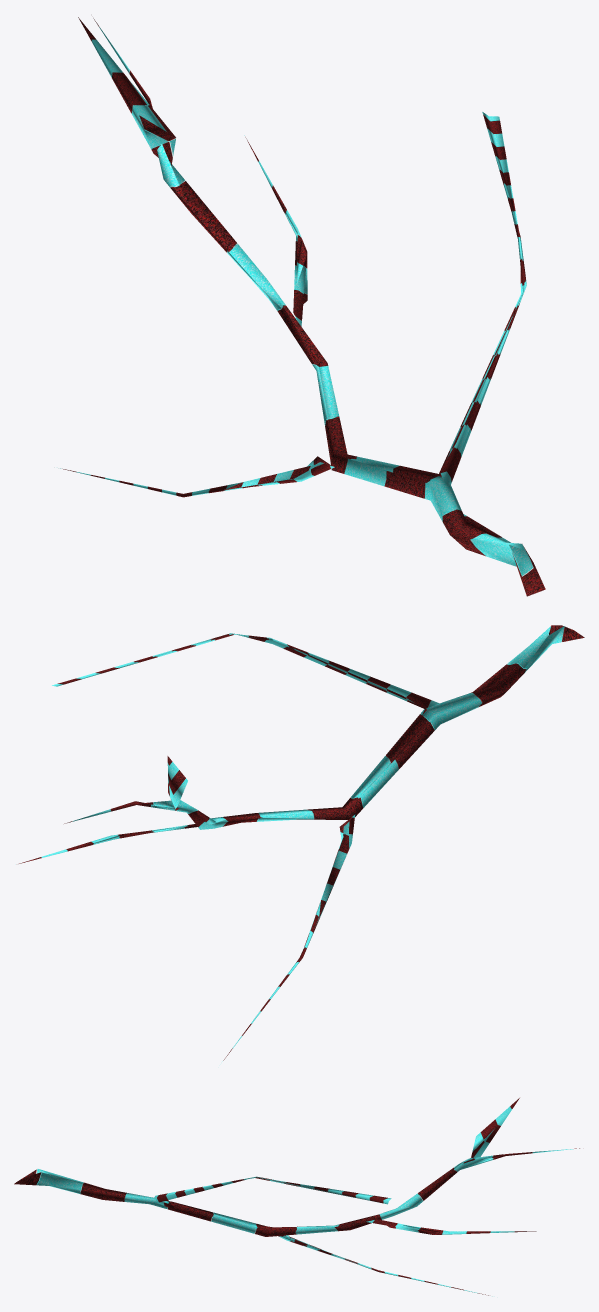
3 renders of one model, top to bottom at view 1: azimuth 30°, elevation 25°; view 2: azimuth 150°, elevation 25°; view 3: azimuth 270°, elevation 25°, orthographic. The views are drawn at different scales.
Parts seen in each view (by area): view 1: SM_VFX_Twigs_SM_VFX_TwigC_LOD0; view 2: SM_VFX_Twigs_SM_VFX_TwigC_LOD0; view 3: SM_VFX_Twigs_SM_VFX_TwigC_LOD0.
Boxes of the visible parts, x1,y1,x2,y2 form: SM_VFX_Twigs_SM_VFX_TwigC_LOD0: [60, 17, 545, 596]; SM_VFX_Twigs_SM_VFX_TwigC_LOD0: [19, 625, 584, 1061]; SM_VFX_Twigs_SM_VFX_TwigC_LOD0: [14, 1098, 579, 1295].
Size of the model in its own units: 1.32 by 1.56 by 3.8.
1 material, 1 textured.
